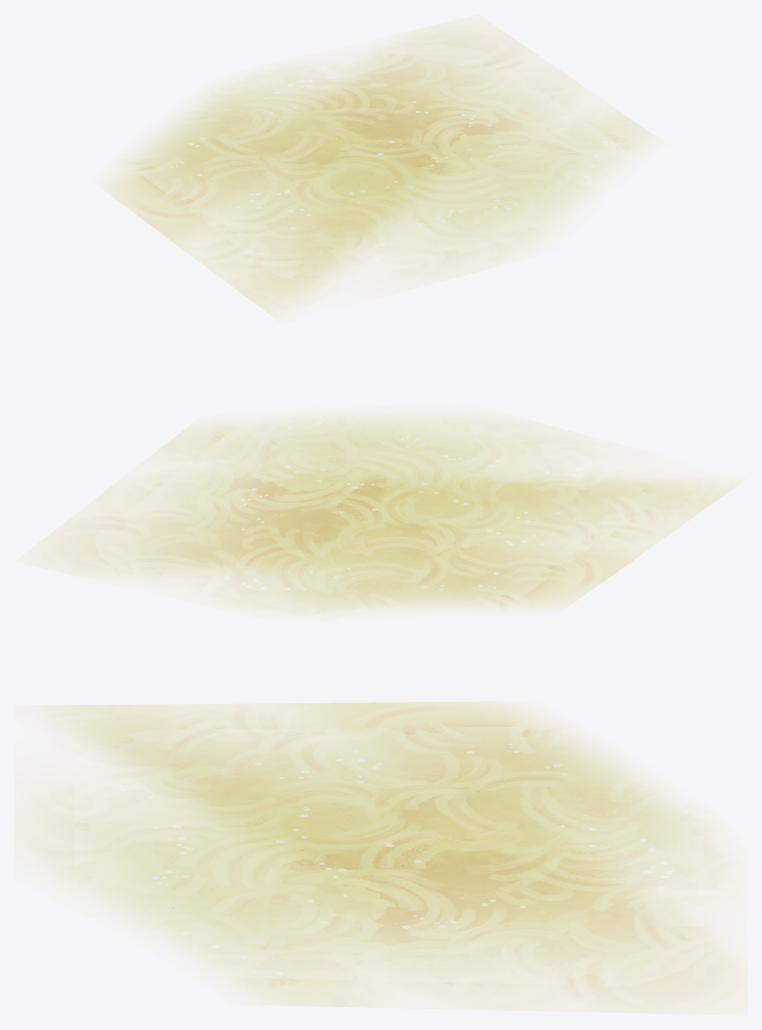
The model's file is s0_PathStep_Art_Polybrush_Clone__472.glb.
3 renders of one model, top to bottom at view 1: azimuth 30°, elevation 25°; view 2: azimuth 150°, elevation 25°; view 3: azimuth 270°, elevation 25°, orthographic. The views are drawn at different scales.
Parts seen in each view (by area): view 1: node_PathStep_Art(Polybrush Clone); view 2: node_PathStep_Art(Polybrush Clone); view 3: node_PathStep_Art(Polybrush Clone).
Boxes of the visible parts, left/top/right/bottom form: node_PathStep_Art(Polybrush Clone): left=107, top=25, right=651, bottom=316; node_PathStep_Art(Polybrush Clone): left=44, top=414, right=736, bottom=613; node_PathStep_Art(Polybrush Clone): left=28, top=702, right=739, bottom=1011.
Bounding box in the file's own units: 0.02 × 0.000529 × 0.02.
1 material, 1 textured.
